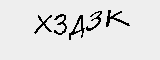Д: (66, 12, 86, 40)
З: (83, 7, 103, 34), (51, 13, 69, 37)
К: (106, 8, 130, 27)
Х: (34, 13, 53, 36)
